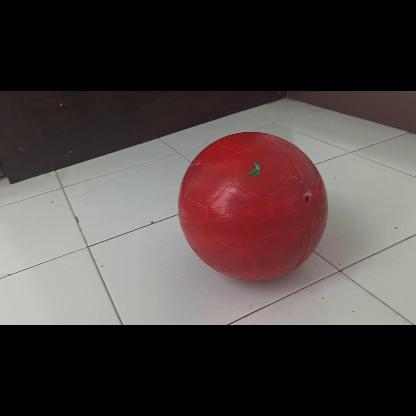red_ball: (178, 131, 327, 280)
